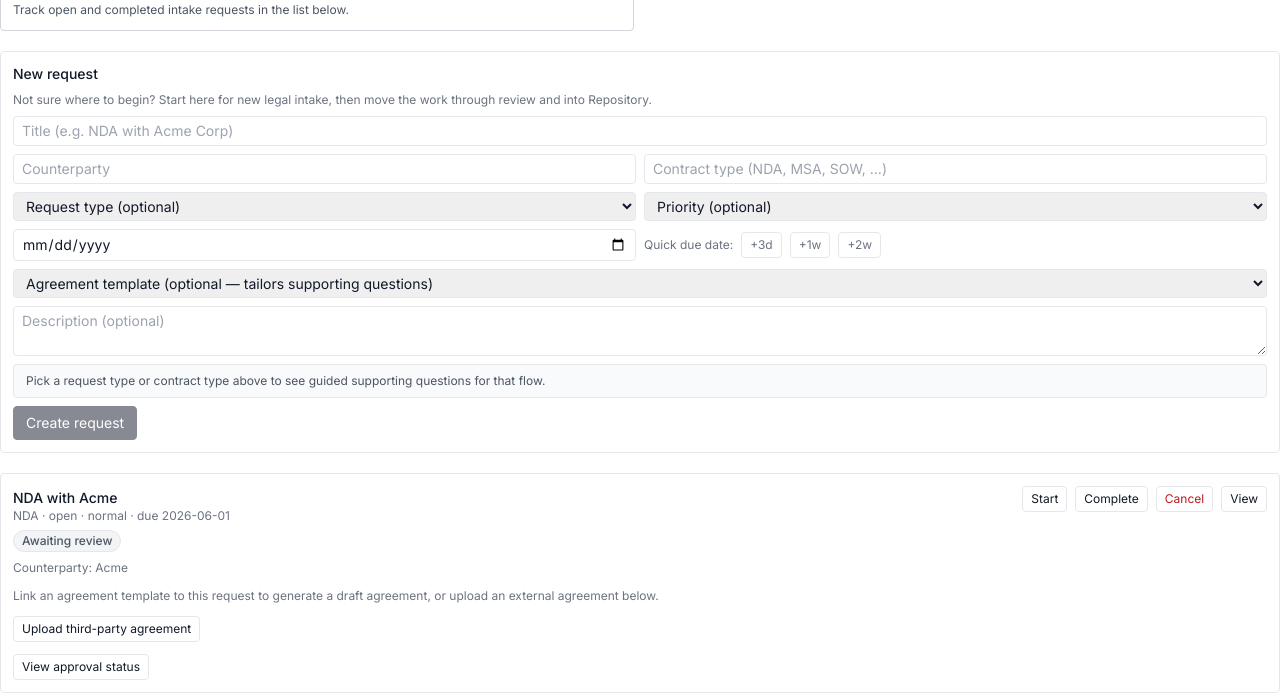
Test case: RequestsPage › does not render storage internals when approval status renders
(page scrolled)
Expected: the link "NDA with Acme" is shown, [13,489,118,506]
Click the button with test id "request-approval-toggle" at (81,667), box [13,654,149,680]
(page scrolled)
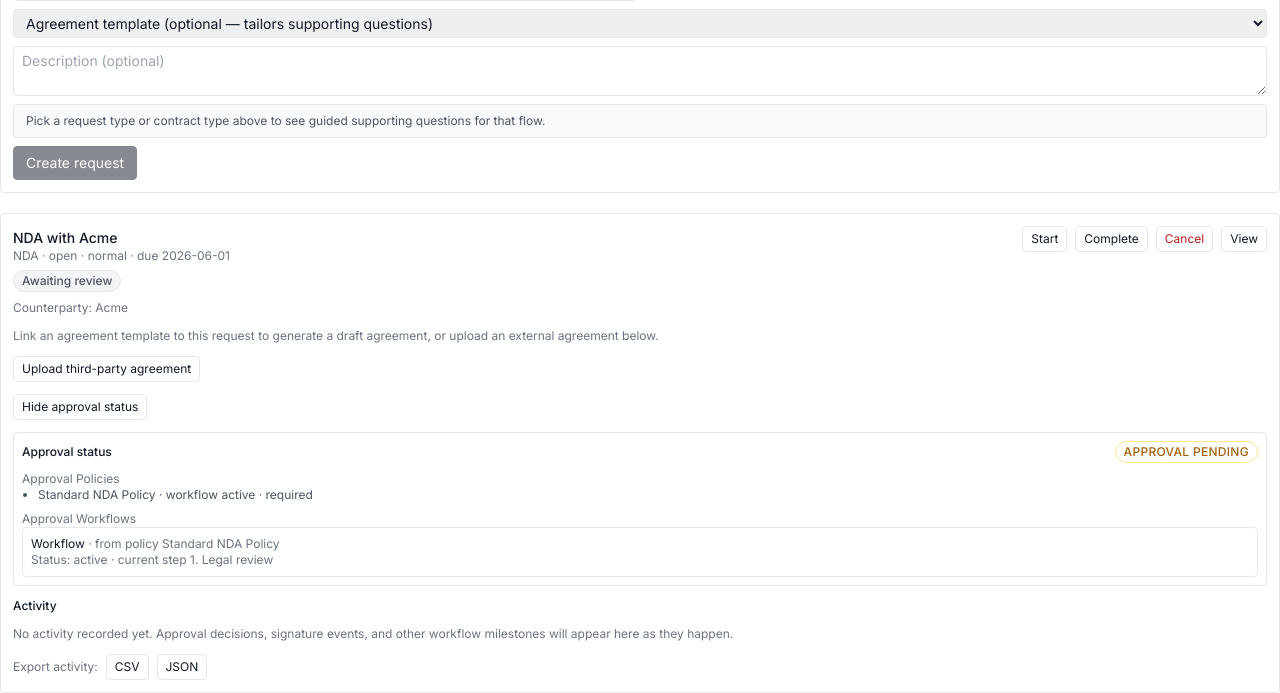
Now the element with test id "request-approval-status" is shown, box [13,432,1267,586]
